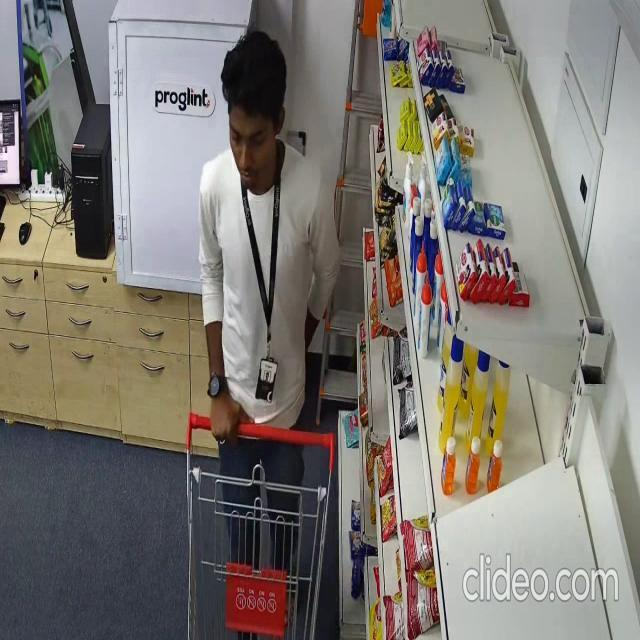Shoplifting: (194, 33, 342, 626)
